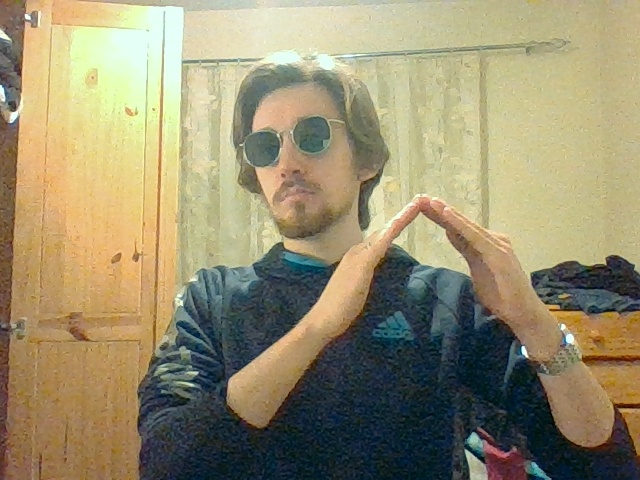home: (336, 194, 514, 278)
